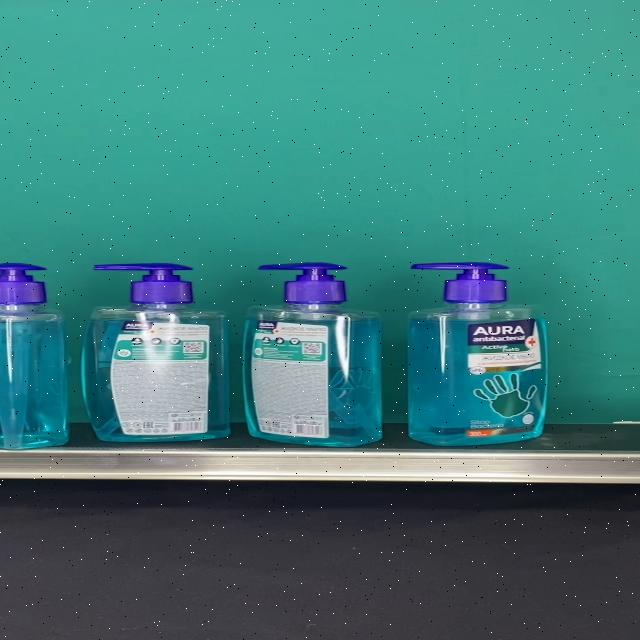Bottle: (81, 263, 230, 441), (240, 263, 382, 447), (407, 262, 547, 446)
Cap: (95, 263, 194, 305), (411, 262, 509, 304), (257, 263, 348, 305)
